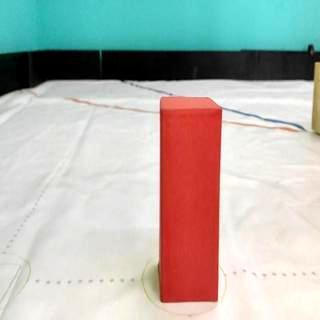redbox: (160, 96, 219, 304)
